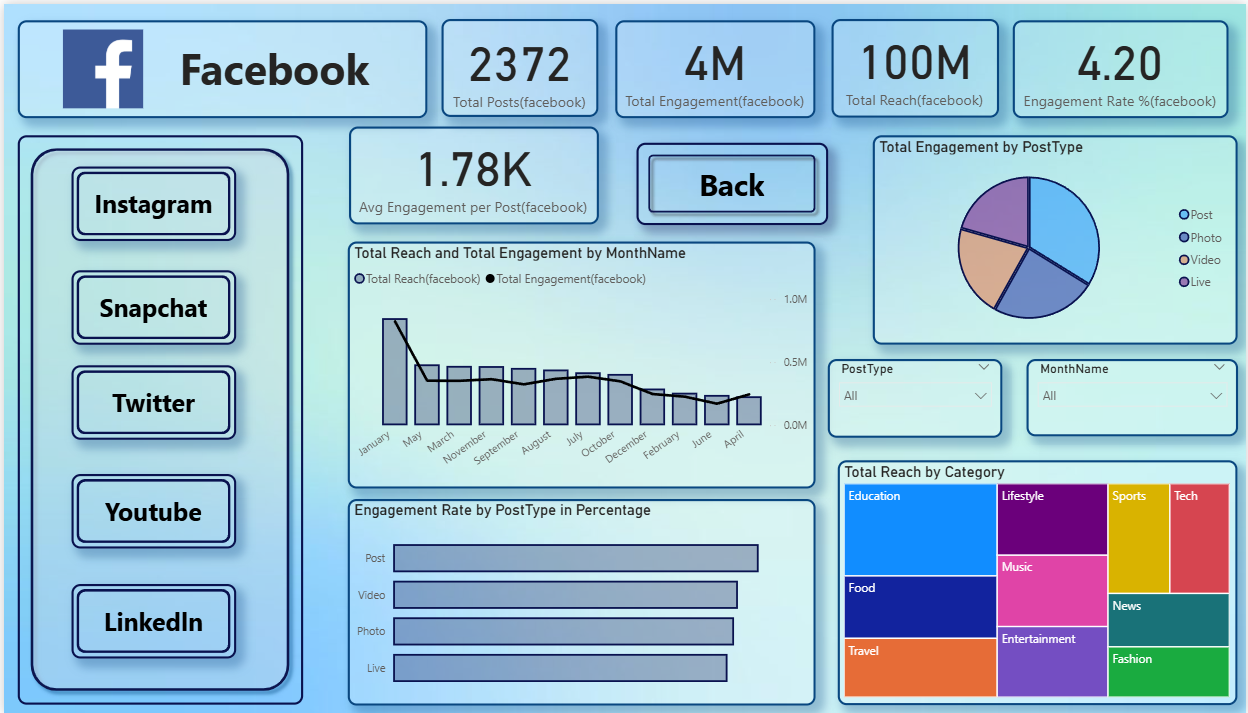

This screenshot's page, from the dashboard's own definition file:
{"tool":"powerbi","page":{"name":"Facebook","canvas":[1400,800],"ordinal":2},"visuals":[{"type":"textbox","box":[15.7,18.6,461.4,110],"z":0},{"type":"image","box":[0,24.3,222.9,98.6],"z":1000},{"type":"card","fields":{"Values":["Facebook_Data.Avg Engagement per Post(facebook)"]},"box":[388.6,138.6,281.4,110],"z":2000},{"type":"card","fields":{"Values":["Facebook_Data.Engagement Rate %(facebook)"]},"box":[1137.1,18.6,242.9,110],"z":3000},{"type":"card","fields":{"Values":["Facebook_Data.Total Engagement(facebook)"]},"box":[688.6,18.6,225.7,110],"z":4000},{"type":"card","fields":{"Values":["Facebook_Data.Total Posts(facebook)"]},"box":[492.9,17.1,177.1,110],"z":5000},{"type":"card","fields":{"Values":["Facebook_Data.Total Reach(facebook)"]},"box":[932.9,17.1,188.6,111.4],"z":6000},{"type":"lineClusteredColumnComboChart","title":"Total Reach and Total Engagement by MonthName","fields":{"Category":["Facebook_Data.MonthName"],"Y":["Facebook_Data.Total Reach(facebook)"],"Y2":["Facebook_Data.Total Engagement(facebook)"]},"box":[387.1,267.1,527.1,278.6],"z":7000},{"type":"pieChart","title":"Total Engagement by PostType","fields":{"Y":["Facebook_Data.Total Engagement(facebook)"],"Category":["Facebook_Data.PostType"]},"box":[978.6,148.6,411.4,235.7],"z":8000},{"type":"treemap","title":"Total Reach by Category","fields":{"Group":["Facebook_Data.Category"],"Values":["Facebook_Data.Total Reach(facebook)"]},"box":[940,514.3,450,275.7],"z":9000},{"type":"slicer","fields":{"Values":["Facebook_Data.MonthName"]},"box":[1151.4,400,238.6,87.1],"z":10000},{"type":"barChart","title":"Engagement Rate by PostType in Percentage","fields":{"Category":["Facebook_Data.PostType"],"Y":["Facebook_Data.Engagement Rate %(facebook)"]},"box":[387.1,557.1,527.1,232.9],"z":11000},{"type":"slicer","fields":{"Values":["Facebook_Data.PostType"]},"box":[928.6,400,197.1,88.6],"z":12000},{"type":"actionButton","box":[712.9,155.7,215.7,92.9],"z":13000},{"type":"shape","box":[15.7,148.6,321.4,641.4],"z":14000},{"type":"actionButton","box":[75.7,182.9,185.7,84.3],"z":15000},{"type":"actionButton","box":[75.7,407.1,185.7,84.3],"z":16000},{"type":"actionButton","box":[75.7,530,185.7,84.3],"z":17000},{"type":"actionButton","box":[75.7,652.9,185.7,84.3],"z":18000},{"type":"actionButton","box":[75.7,300,185.7,84.3],"z":19000}]}

Visuals, with their boxes in screenshot pixels (x1, y1, x2, y2), scaled from the page's 1400x800 canvas onto the 1248x713 screenshot:
textbox: (left=14, top=17, right=425, bottom=115)
image: (left=0, top=22, right=199, bottom=110)
card - Facebook_Data.Avg Engagement per Post(facebook): (left=346, top=124, right=597, bottom=222)
card - Facebook_Data.Engagement Rate %(facebook): (left=1014, top=17, right=1230, bottom=115)
card - Facebook_Data.Total Engagement(facebook): (left=614, top=17, right=815, bottom=115)
card - Facebook_Data.Total Posts(facebook): (left=439, top=15, right=597, bottom=113)
card - Facebook_Data.Total Reach(facebook): (left=832, top=15, right=1000, bottom=115)
"Total Reach and Total Engagement by MonthName" lineClusteredColumnComboChart: (left=345, top=238, right=815, bottom=486)
"Total Engagement by PostType" pieChart: (left=872, top=132, right=1239, bottom=343)
"Total Reach by Category" treemap: (left=838, top=458, right=1239, bottom=704)
slicer - Facebook_Data.MonthName: (left=1026, top=356, right=1239, bottom=434)
"Engagement Rate by PostType in Percentage" barChart: (left=345, top=497, right=815, bottom=704)
slicer - Facebook_Data.PostType: (left=828, top=356, right=1003, bottom=435)
actionButton: (left=635, top=139, right=828, bottom=222)
shape: (left=14, top=132, right=301, bottom=704)
actionButton: (left=67, top=163, right=233, bottom=238)
actionButton: (left=67, top=363, right=233, bottom=438)
actionButton: (left=67, top=472, right=233, bottom=547)
actionButton: (left=67, top=582, right=233, bottom=657)
actionButton: (left=67, top=267, right=233, bottom=343)
